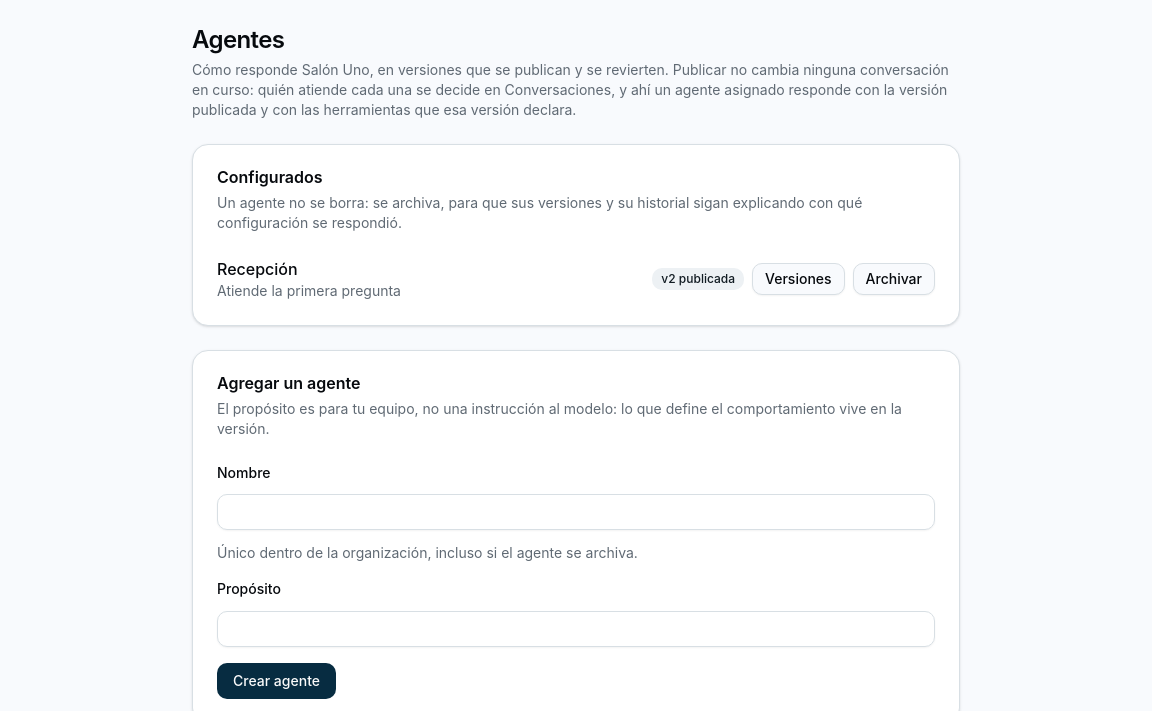
Test: configuración de agentes › no deja guardar mientras el catálogo de herramientas no se pudo cargar
Click the button "Versiones". click: (798, 279)
box: [752,263,844,295]
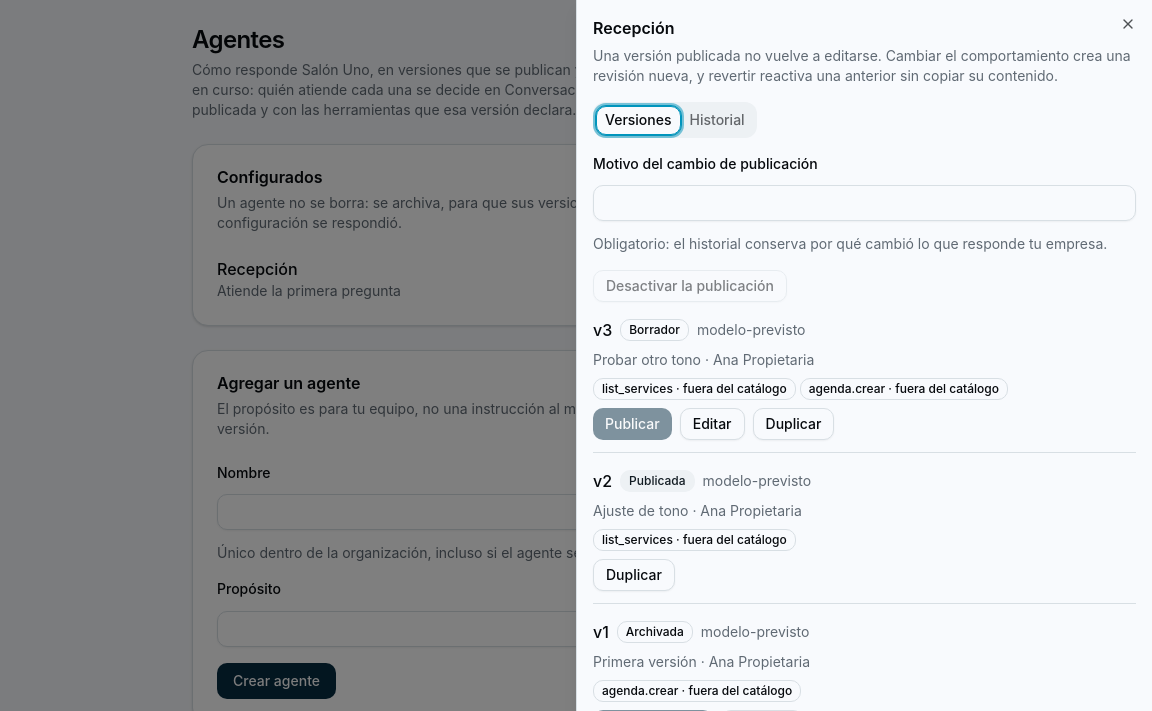
Click the button "Editar". click: (712, 424)
box: [680,408,744,440]
(page scrolled)
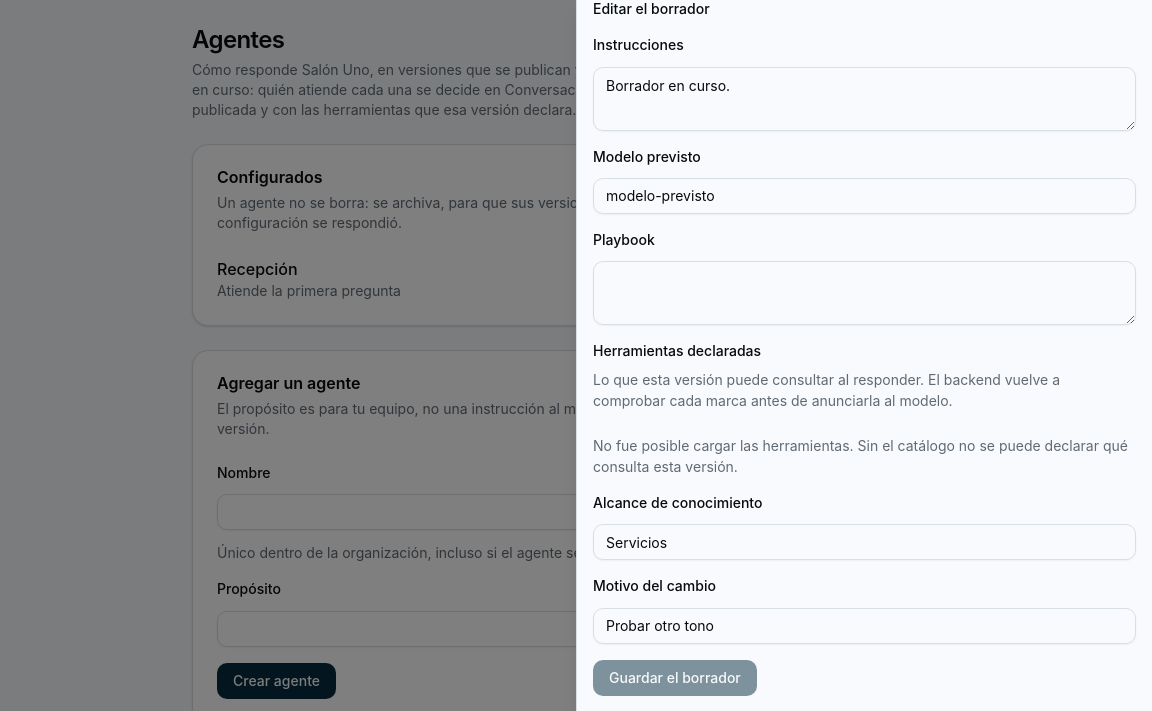
Result: the text "Sin el catálogo no se puede declarar" is shown at [593,437,1128,475]
Result: the button "Guardar el borrador" is disabled at [593,660,757,696]
